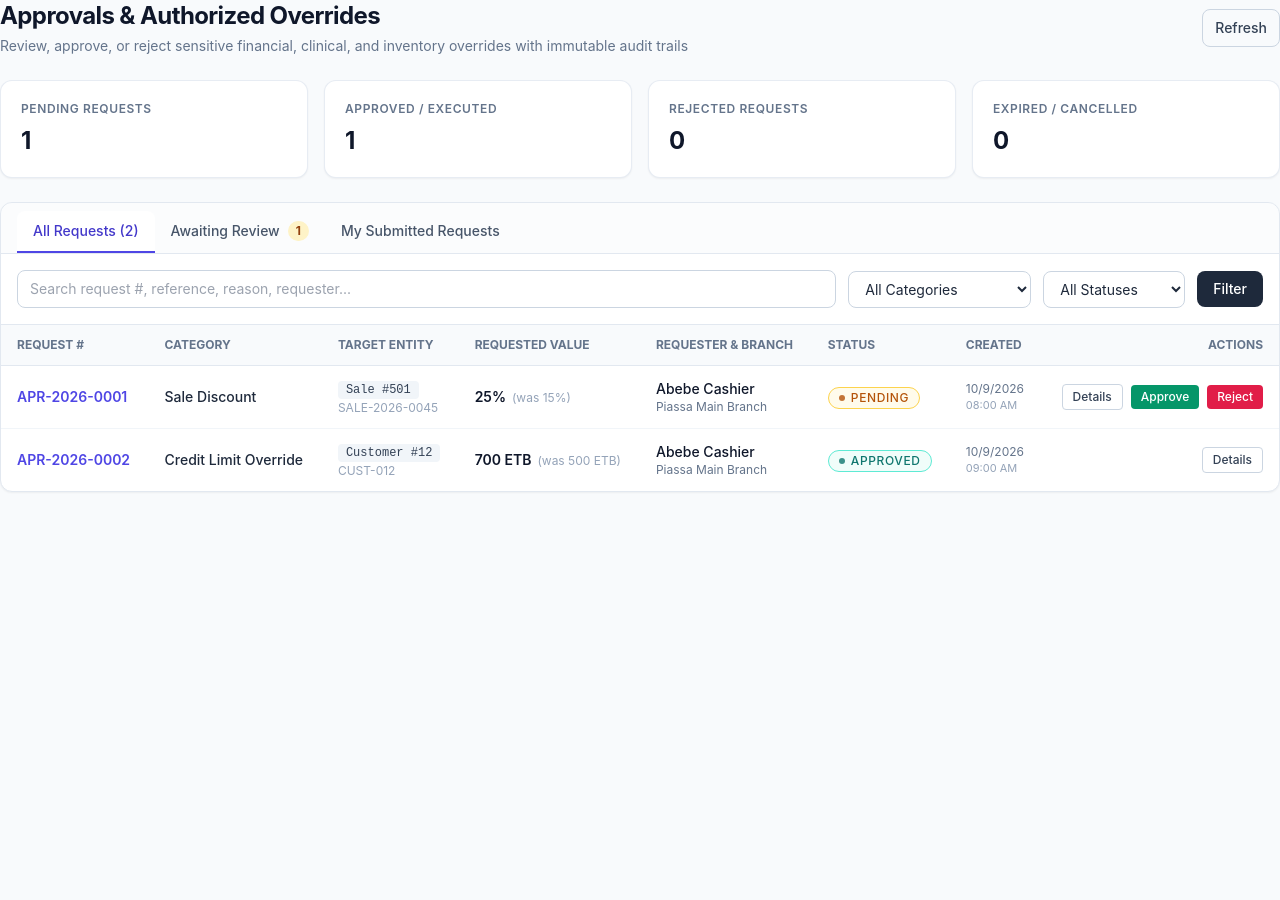
ApprovalsPage & ApprovalDetailPage Frontend Tests › displays quick Approve & Reject buttons for eligible supervisors (non-requesters)
expect the link "APR-2026-0001" is shown: met, box [17,388,127,405]
# Click Approve button to open confirmation dialog
Click the button "Approve": point(1165, 397) [1131,385,1199,409]
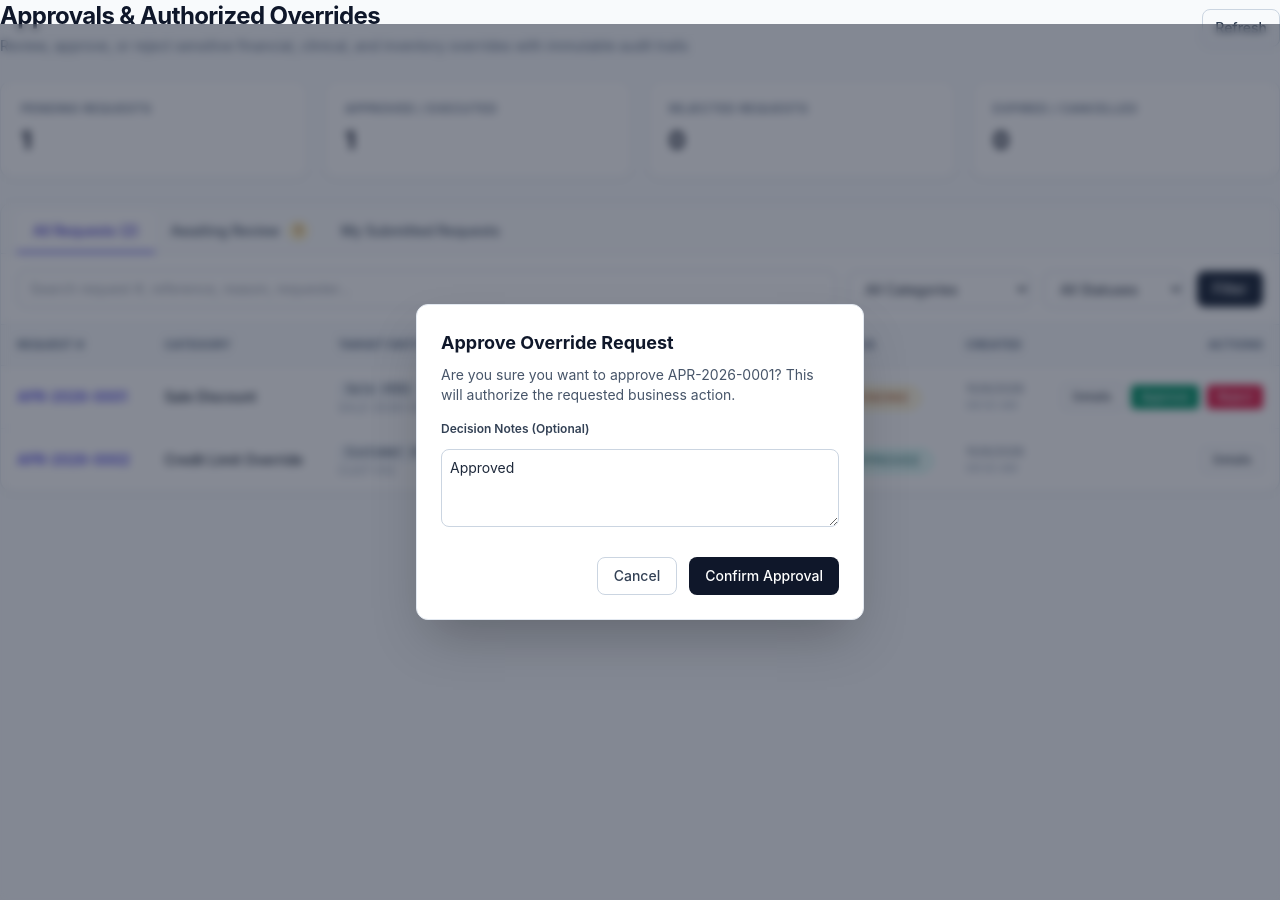
expect the heading "Approve Override Request" is shown: met, box [441,332,674,353]
